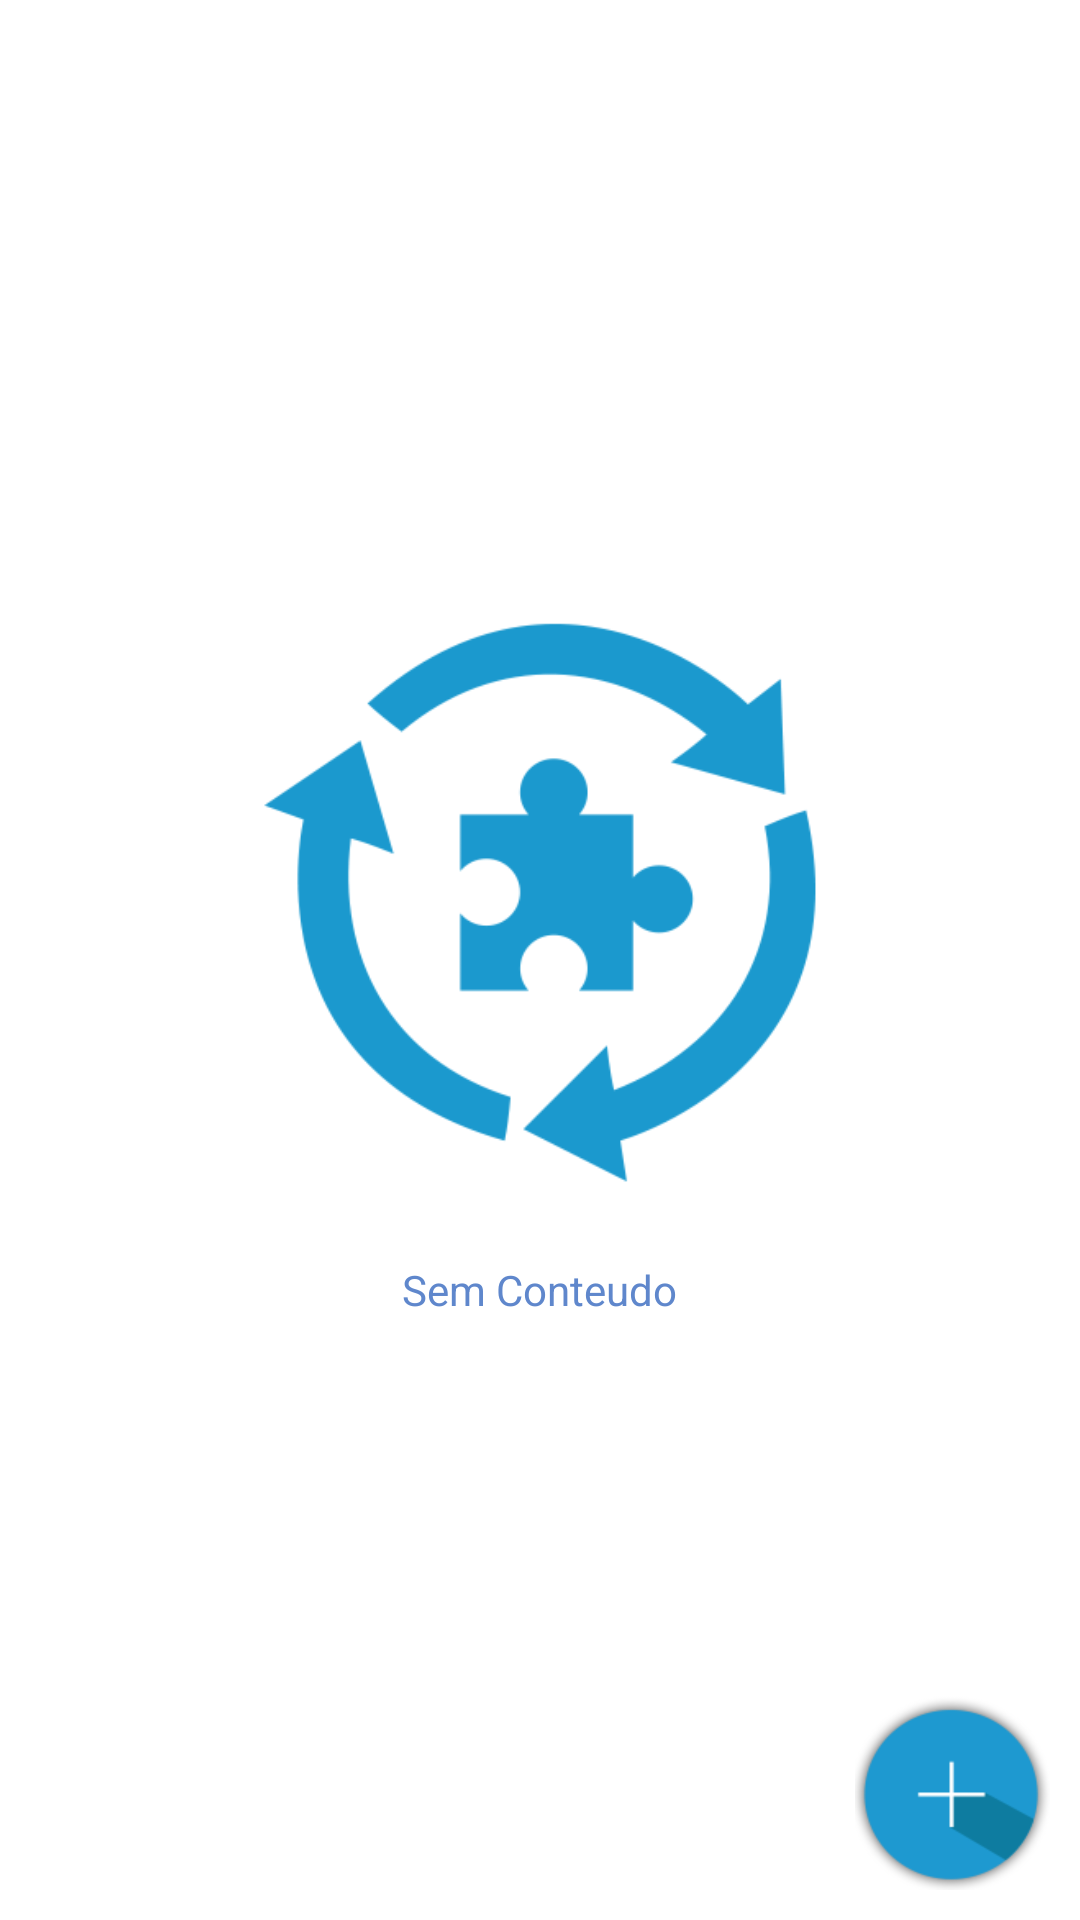

Icons on this 1080 × 1920 Android screen, each with its box as (x1,y1,x2,y2):
mais: (857,1703,1045,1886)
